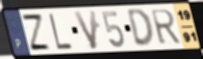5: (101, 10, 126, 49)
D: (126, 8, 156, 49)
L: (47, 12, 74, 51)
R: (149, 8, 183, 46)
V: (72, 9, 99, 52)
Z: (20, 14, 53, 52)
